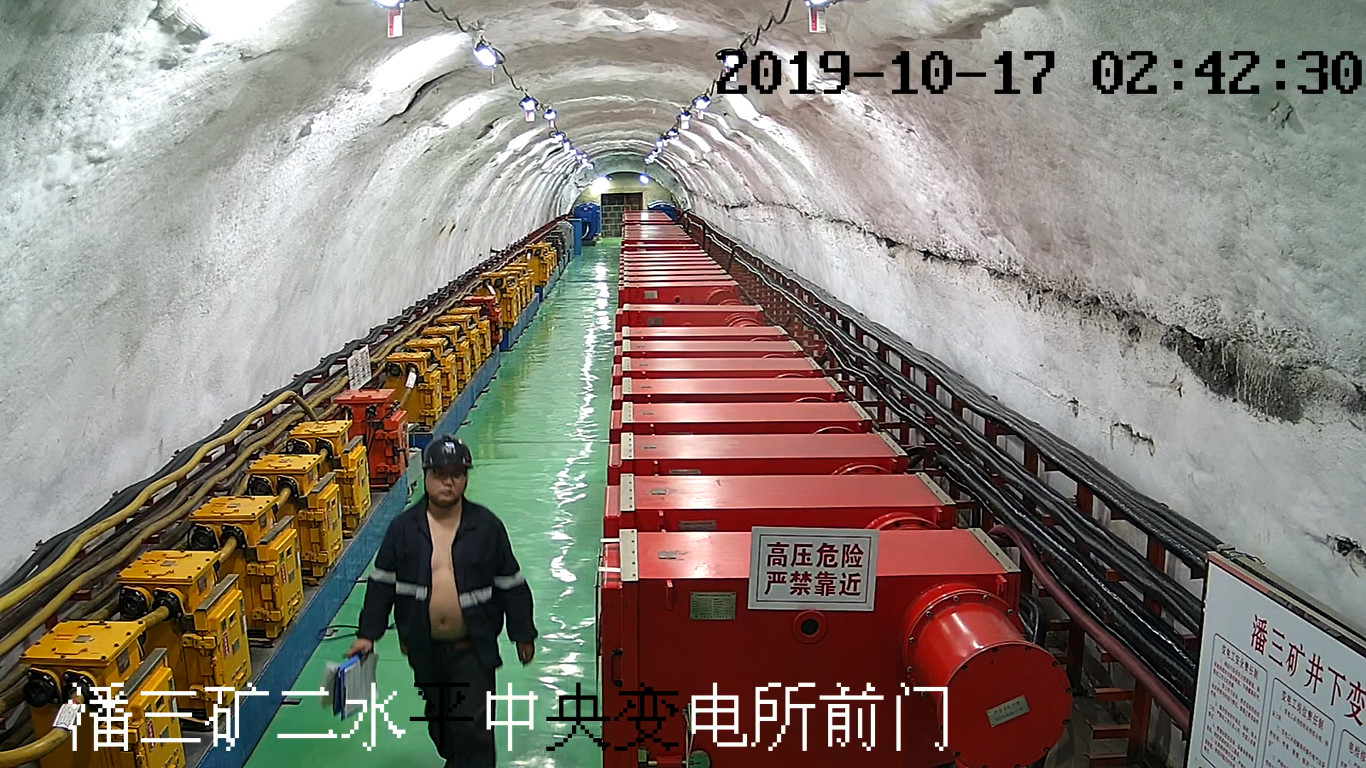helmet: (422, 433, 472, 468)
